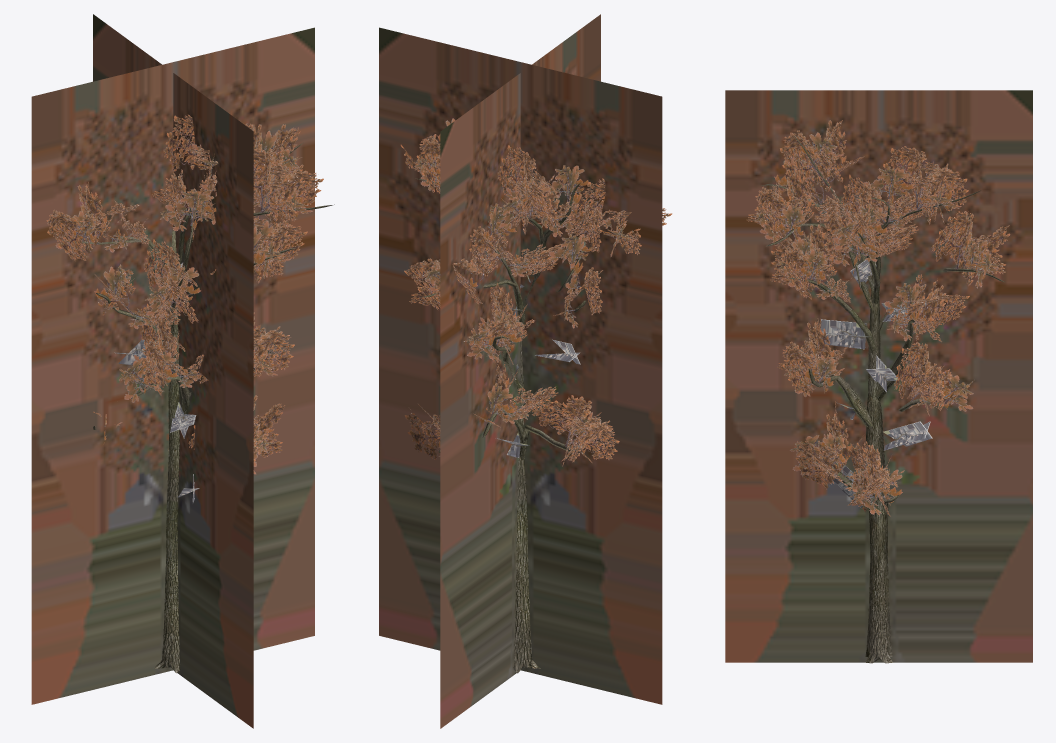
The model's file is Tree-Oak0C.fbx.
The picture shows the model from 3 angles, left to right: view 1: azimuth 30°, elevation 25°; view 2: azimuth 150°, elevation 25°; view 3: azimuth 270°, elevation 25°; orthographic projection. The views are drawn at different scales.
Parts seen in each view (by area): view 1: Billboard-Oak0C, Tree-Oak0C_LOD0; view 2: Billboard-Oak0C, Tree-Oak0C_LOD0; view 3: Billboard-Oak0C, Tree-Oak0C_LOD0.
Boxes of the visible parts, x1,y1,x2,y2 form: Billboard-Oak0C: [31, 14, 314, 728]; Tree-Oak0C_LOD0: [46, 114, 334, 673]; Billboard-Oak0C: [379, 14, 662, 728]; Tree-Oak0C_LOD0: [400, 118, 672, 673]; Billboard-Oak0C: [725, 90, 1032, 662]; Tree-Oak0C_LOD0: [746, 120, 1010, 663].
Size of what is drawn, in the model's own units: 1446 by 2800 by 1379.
